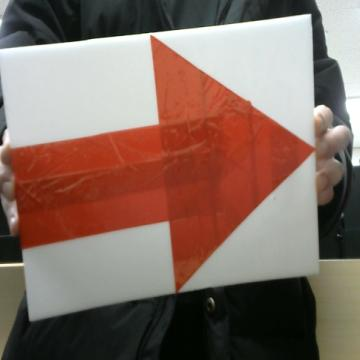red_right: (11, 35, 313, 291)
